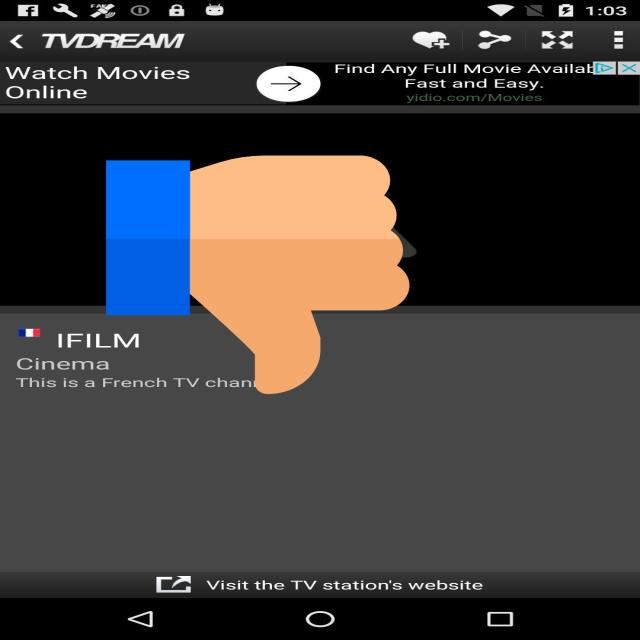obstruction: (106, 150, 410, 400)
